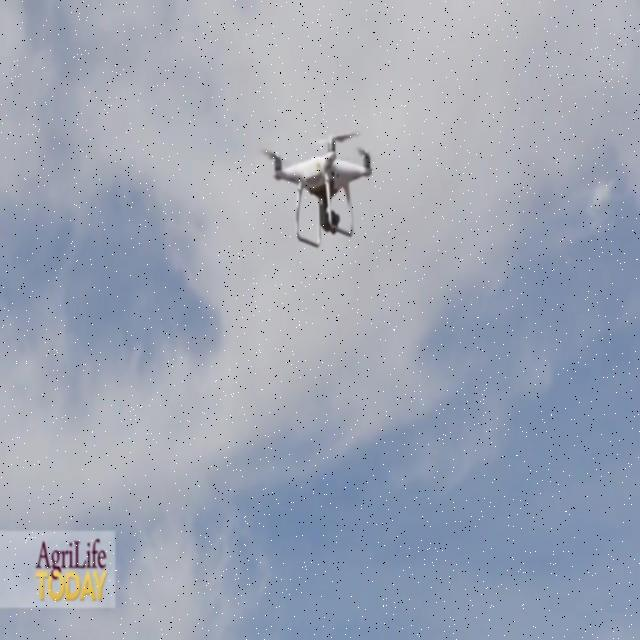UAV: (260, 131, 373, 249)
